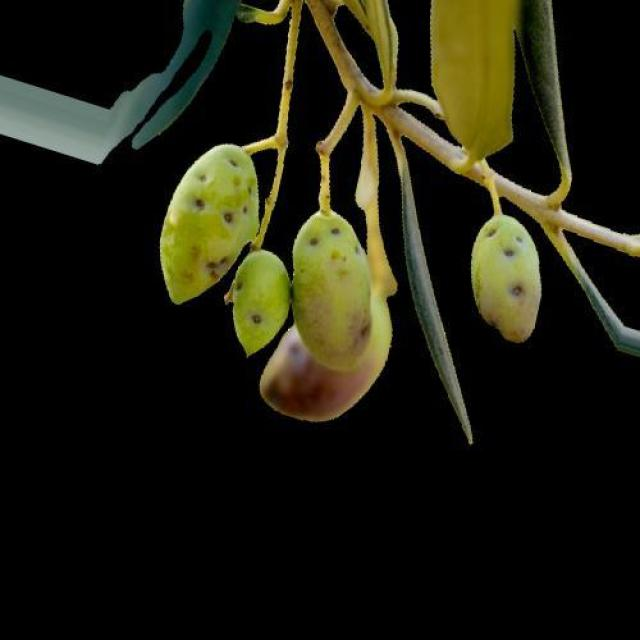Olive Fruit Fly: (161, 145, 259, 303), (292, 211, 371, 371), (471, 212, 540, 340), (232, 250, 288, 356)
